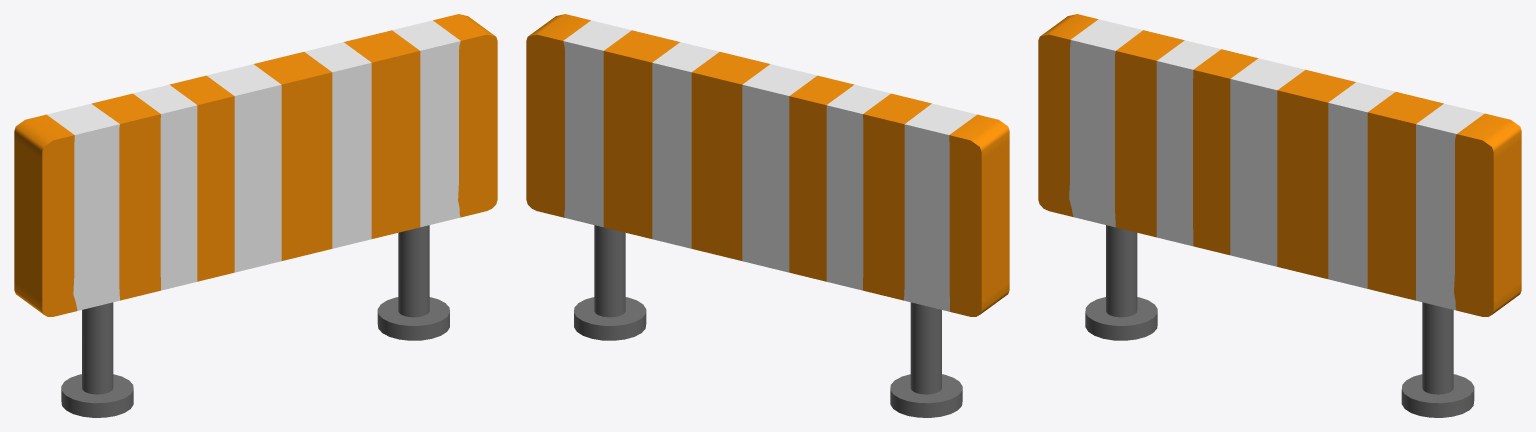
The model's file is traffic_barrier.glb.
3 views of the same model, side by side, from view 1: azimuth 30°, elevation 25°; view 2: azimuth 150°, elevation 25°; view 3: azimuth 330°, elevation 25° (orthographic).
Parts seen in each view (by area): view 1: Main_Body, pCylinder1, pCylinder2, pCylinder4, pCylinder3; view 2: Main_Body, pCylinder1, pCylinder2, pCylinder4, pCylinder3; view 3: Main_Body, pCylinder2, pCylinder1, pCylinder4, pCylinder3.
Part boxes in pixels (x1,y1,x2,y2): Main_Body: (14, 14, 497, 316); pCylinder1: (82, 302, 113, 394); pCylinder2: (398, 225, 429, 317); pCylinder4: (377, 297, 449, 340); pCylinder3: (61, 374, 133, 417); Main_Body: (526, 14, 1009, 316); pCylinder1: (910, 302, 941, 394); pCylinder2: (594, 225, 625, 317); pCylinder4: (574, 297, 646, 340); pCylinder3: (890, 374, 962, 417); Main_Body: (1038, 14, 1521, 316); pCylinder2: (1422, 302, 1453, 394); pCylinder1: (1106, 225, 1137, 317); pCylinder4: (1401, 374, 1474, 417); pCylinder3: (1085, 297, 1157, 340).
Bounding box in the file's own units: 0.0888 × 0.0535 × 0.0123.
